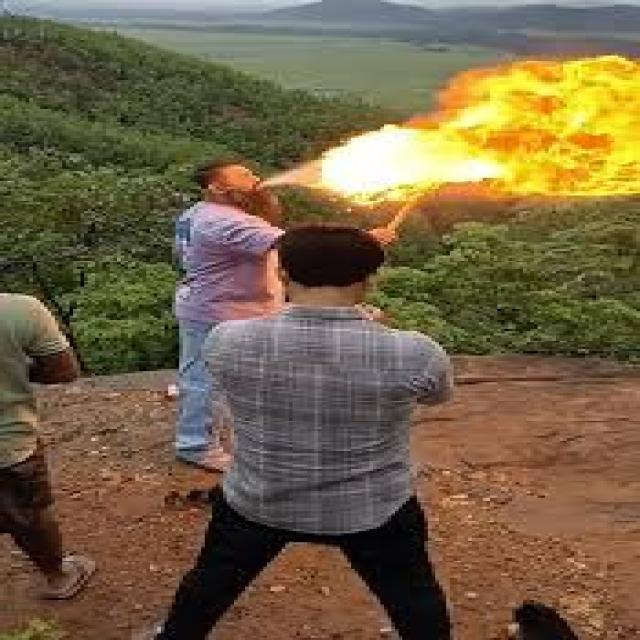fire: (305, 55, 636, 203)
